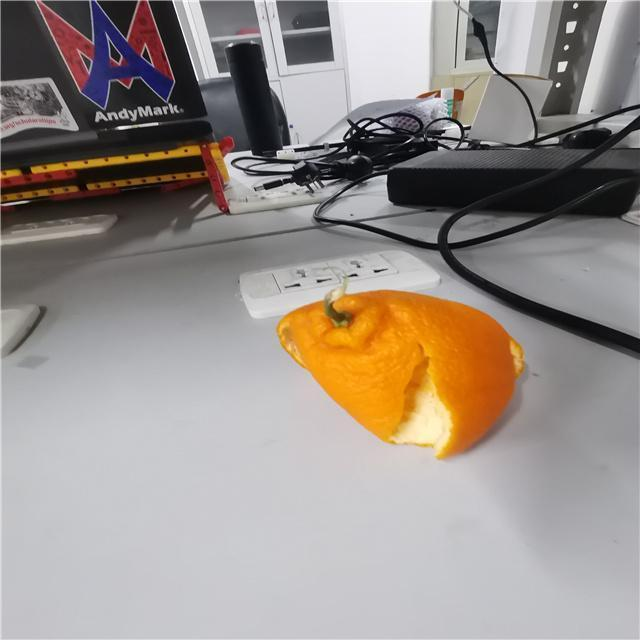orange peel: (269, 262, 534, 458)
